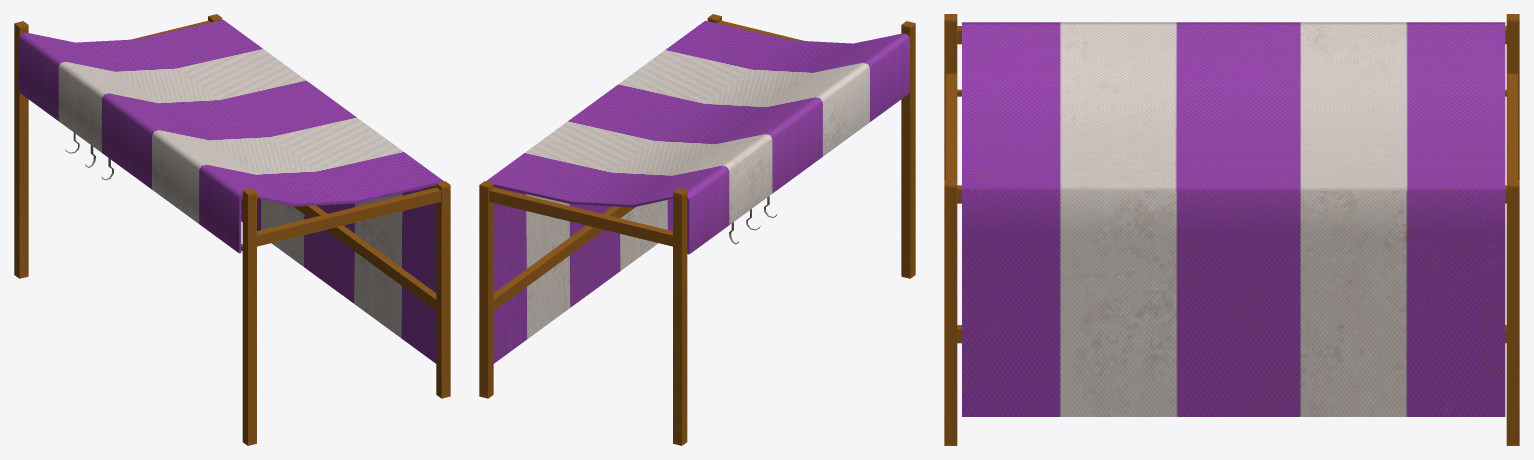
The model's file is stand2.glb.
3 renders of one model, left to right at view 1: azimuth 30°, elevation 25°; view 2: azimuth 150°, elevation 25°; view 3: azimuth 270°, elevation 25°, orthographic. The views are drawn at different scales.
Visible parts, largest first — view 1: Stand_Meat_IronWood_0.001; view 2: Stand_Meat_IronWood_0.001; view 3: Stand_Meat_IronWood_0.001.
Boxes of the visible parts, x1,y1,x2,y2 form: Stand_Meat_IronWood_0.001: (14, 14, 450, 445); Stand_Meat_IronWood_0.001: (479, 14, 915, 445); Stand_Meat_IronWood_0.001: (944, 14, 1519, 445).
Bounding box in the file's own units: 3.25 × 3.74 × 6.29.
2 materials, 2 textured.
